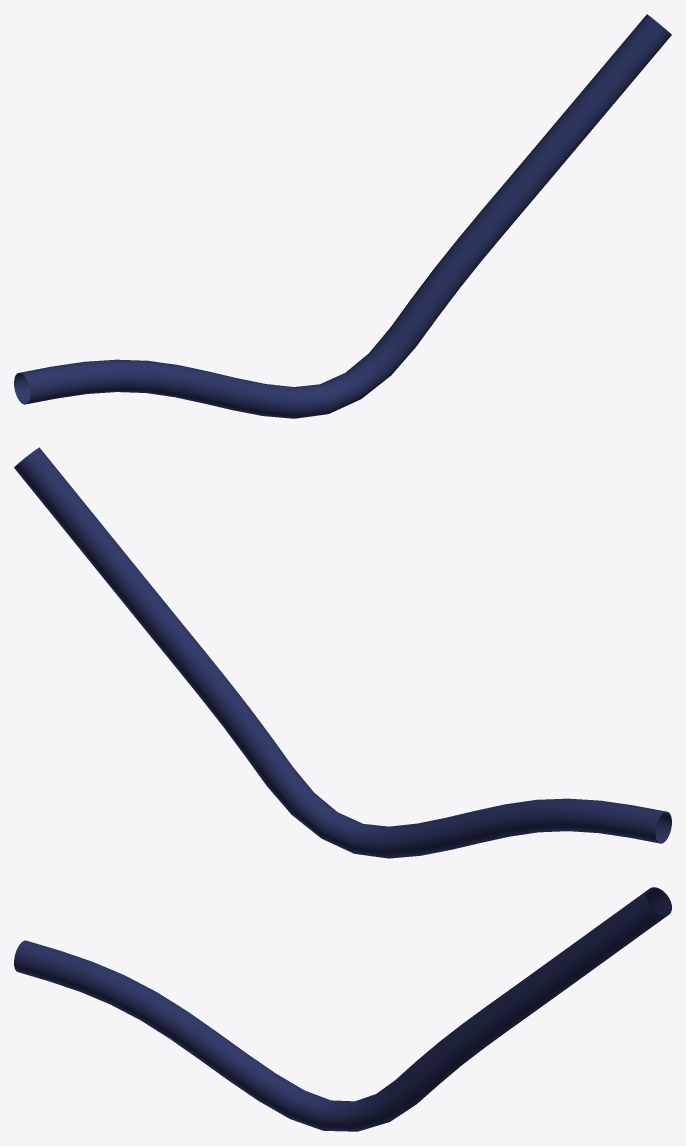
Rendered from Models_0.2 Pipe.fbx.
3 views of the same model, one above another, from view 1: azimuth 30°, elevation 25°; view 2: azimuth 150°, elevation 25°; view 3: azimuth 330°, elevation 25° (orthographic).
Parts seen in each view (by area): view 1: Circle.001; view 2: Circle.001; view 3: Circle.001.
Part boxes in pixels (x1,y1,x2,y2): Circle.001: (14,14,671,418); Circle.001: (14,447,671,858); Circle.001: (14,887,671,1131).
Bounding box in the file's own units: 150 × 71.34 × 7.68.
